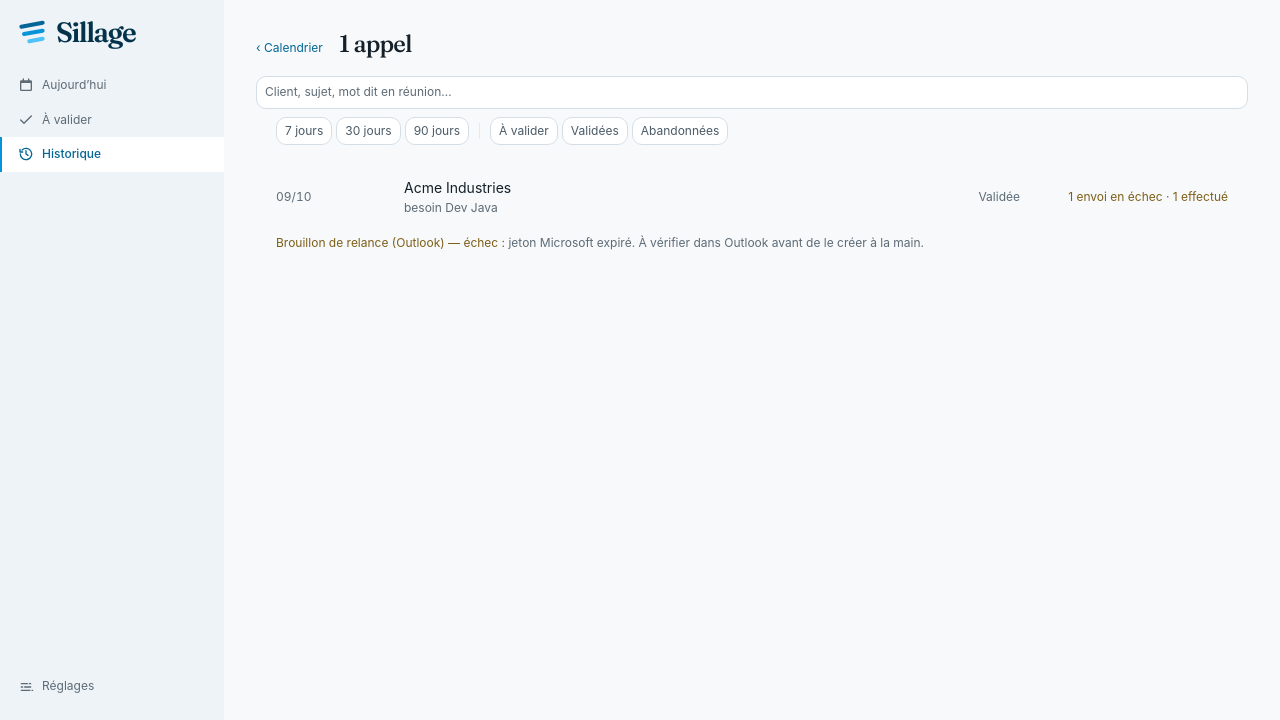
a caption only where the content cannot name itself (US-23) › un moment marqué est daté comme les tours qui l’entourent
Expected: the list named "Appels enregistrés" is shown, [256,162,1248,260]
Click the button "Acme Industries". click: (294, 197)
box: [256,162,1248,234]
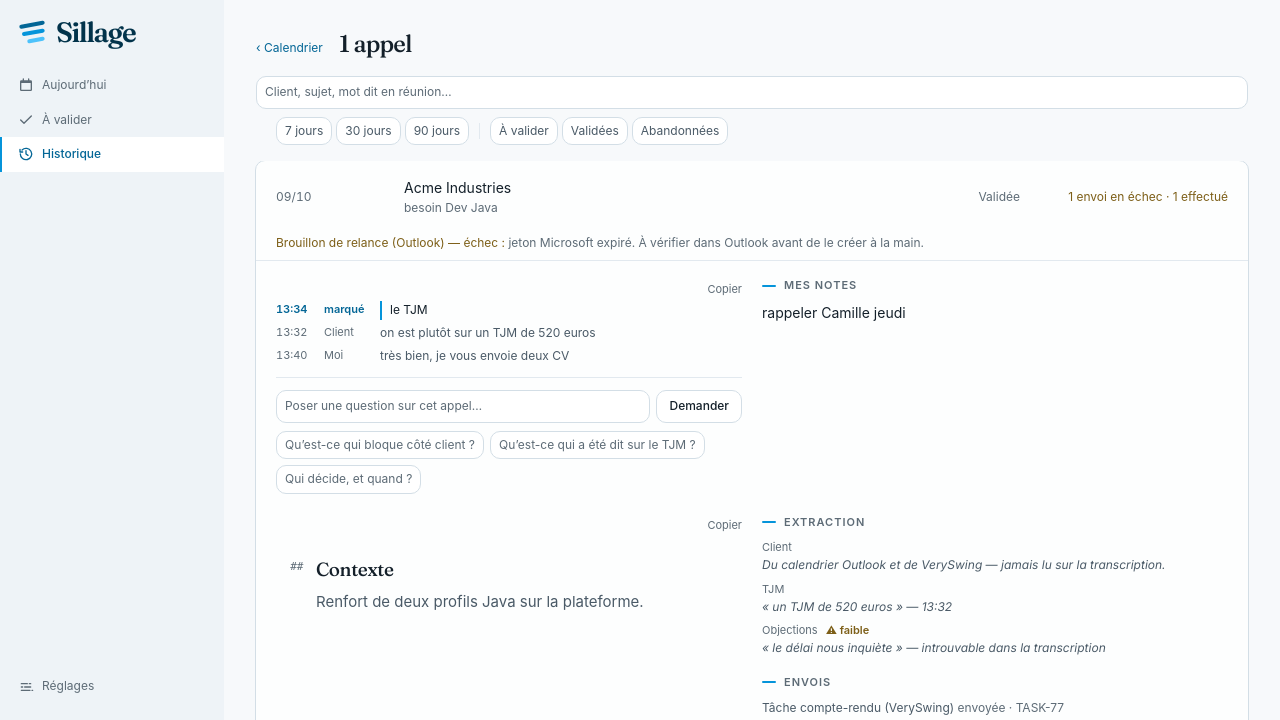
Expected: the text "le TJM" is shown, [380,301,738,320]
Expected: the text "13:34" is shown, [276,302,307,316]
Expected: the text "13:32" is shown, [276,325,308,339]
